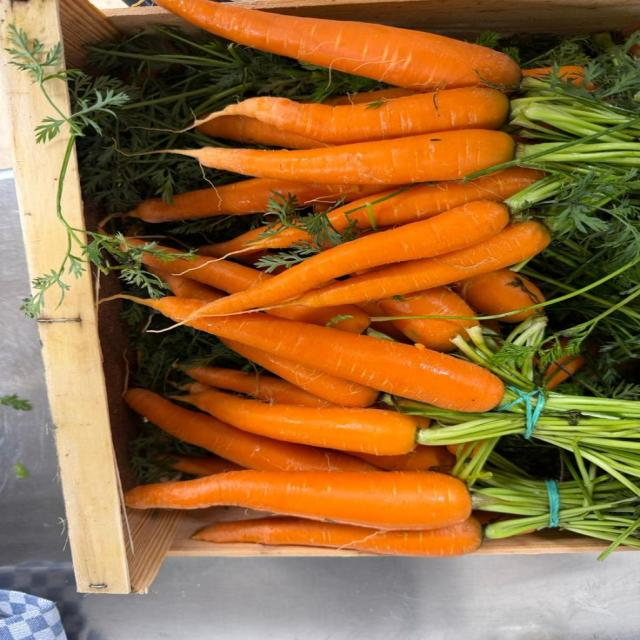carrot: (128, 297, 504, 412), (202, 201, 509, 313), (157, 0, 520, 90), (293, 221, 550, 307), (125, 389, 376, 471), (125, 471, 471, 529), (164, 130, 514, 186), (198, 87, 508, 148), (177, 389, 418, 455), (327, 168, 543, 230), (193, 517, 481, 556), (127, 179, 377, 223), (223, 339, 379, 407), (222, 340, 378, 406), (187, 367, 327, 407), (142, 254, 276, 293), (455, 269, 544, 322), (197, 115, 327, 149), (379, 287, 474, 318), (147, 265, 225, 301), (354, 445, 455, 472), (167, 454, 246, 476), (323, 87, 415, 105), (544, 354, 586, 390), (545, 355, 586, 390), (522, 66, 584, 85), (371, 321, 407, 342)
